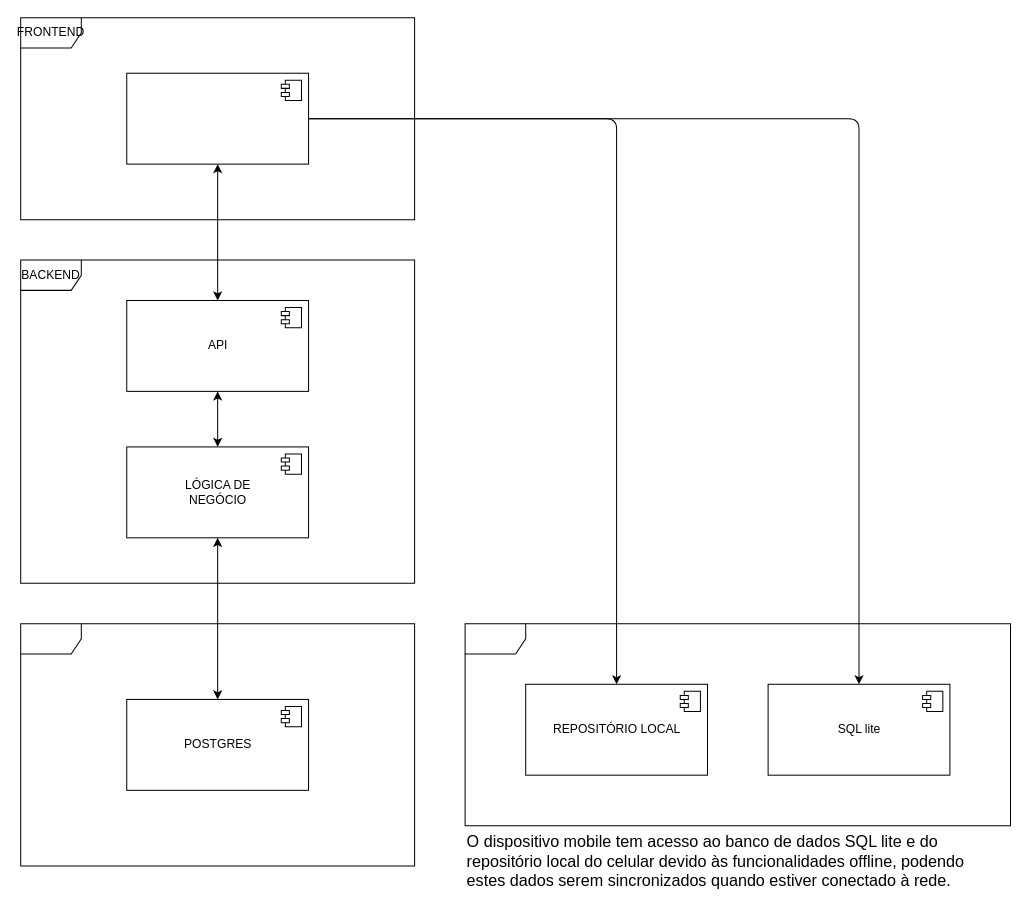
Image size: 1028x914. Some labels were removed from this diagram. The box of each missing label's shape, as (x1, y1, x2, y2) in pixels:
BANCO DE DADOS: (20, 623, 415, 866)
BANCO DE DADOS MOBILE: (464, 623, 1011, 826)
MOBILE: (126, 72, 309, 164)
